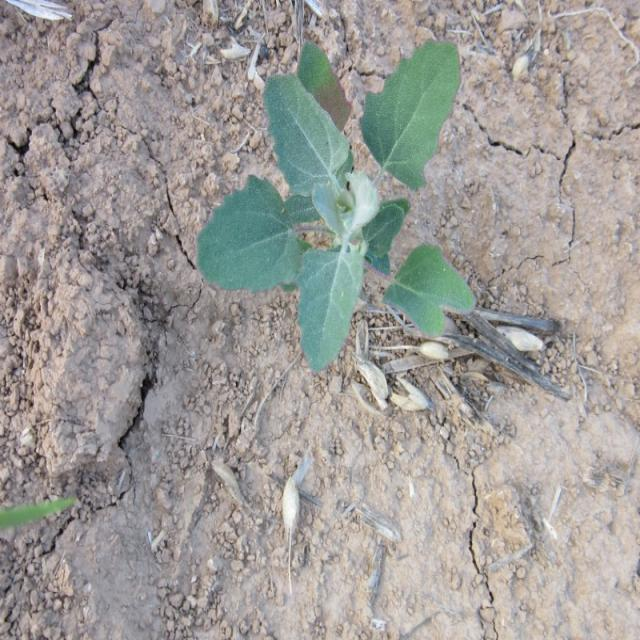ca: (191, 31, 480, 375)
